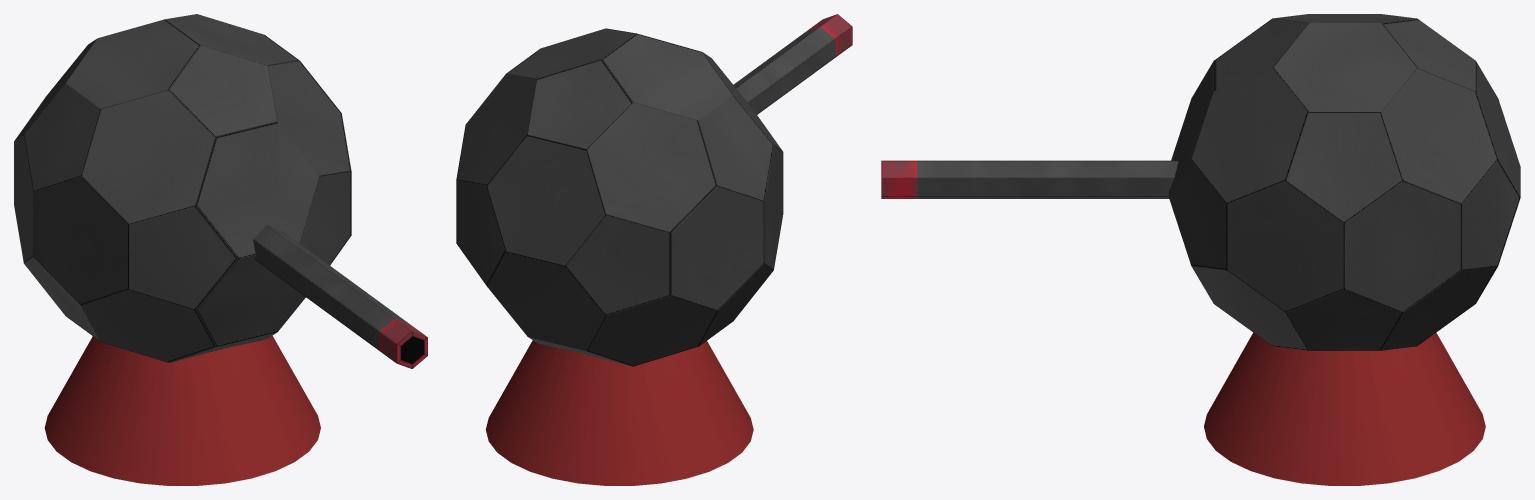
Rendered from TurretFBXLevel4.fbx.
3 views of the same model, side by side, from view 1: azimuth 30°, elevation 25°; view 2: azimuth 150°, elevation 25°; view 3: azimuth 270°, elevation 25° (orthographic). The views are drawn at different scales.
Parts seen in each view (by area): view 1: polySurface2, polySurface4, polySurface3; view 2: polySurface2, polySurface4, polySurface3; view 3: polySurface2, polySurface4, polySurface3.
Part boxes in pixels (x1,y1,x2,y2): polySurface2: [14, 14, 351, 362]; polySurface4: [44, 336, 320, 485]; polySurface3: [253, 225, 427, 368]; polySurface2: [456, 28, 783, 366]; polySurface4: [485, 340, 753, 485]; polySurface3: [733, 14, 852, 114]; polySurface2: [1169, 14, 1520, 350]; polySurface4: [1204, 332, 1485, 485]; polySurface3: [881, 160, 1178, 198].
Size of the model in its own units: 9.38 by 11.88 by 17.04.
3 materials, 3 textured.
